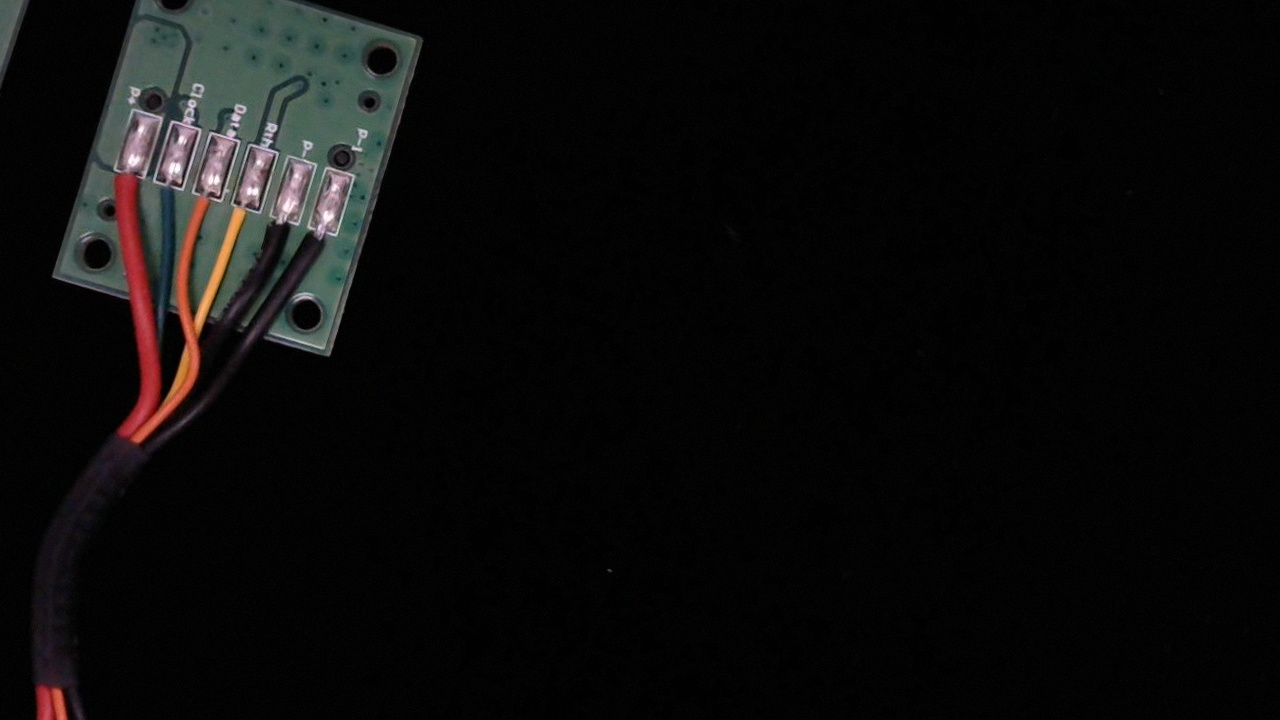Black: (253, 201, 301, 270)
Black1: (291, 213, 342, 287)
Green: (134, 162, 188, 239)
Orange: (173, 176, 225, 254)
Red: (98, 151, 152, 228)
Yellow: (211, 187, 267, 268)
